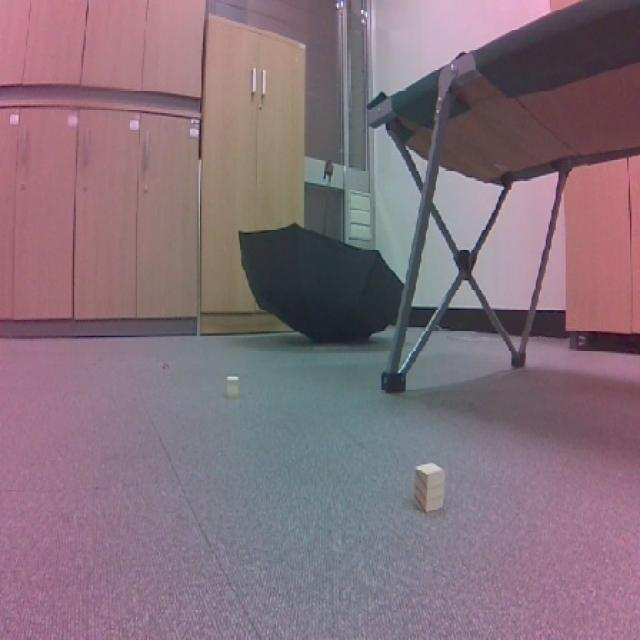obstacle: (407, 455, 452, 522)
